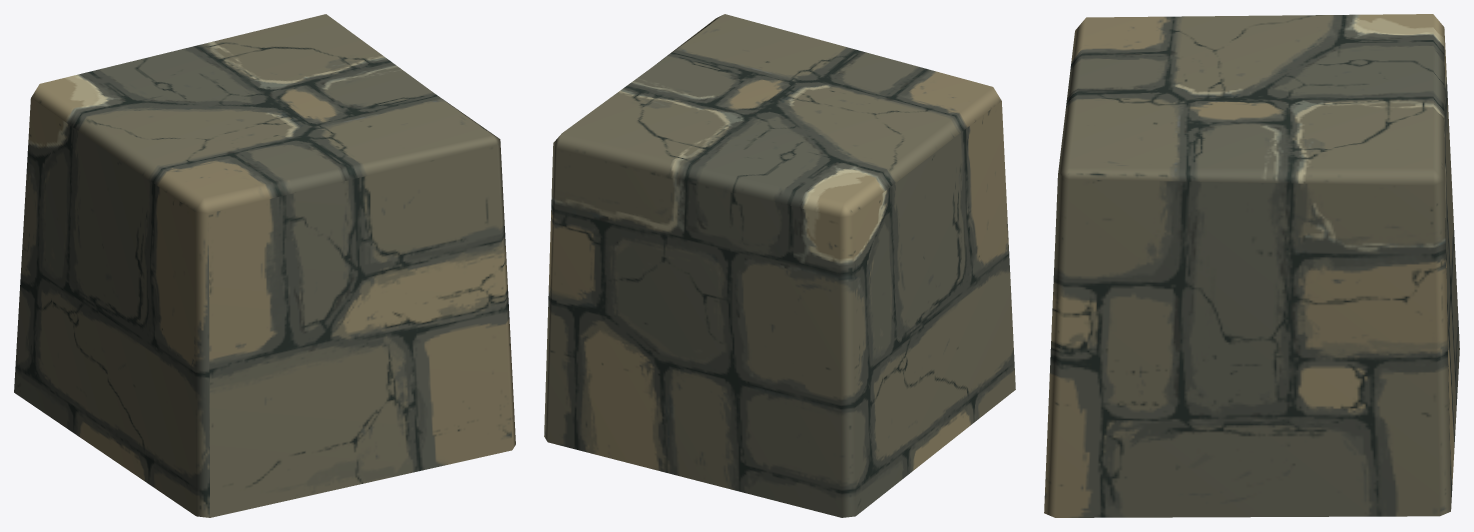
File: platform.fbx
3 views of the same model, side by side, from view 1: azimuth 30°, elevation 25°; view 2: azimuth 150°, elevation 25°; view 3: azimuth 270°, elevation 25° (orthographic). The views are drawn at different scales.
Parts seen in each view (by area): view 1: pPlane7; view 2: pPlane7; view 3: pPlane7.
Boxes of the visible parts, bbox=[...] form: pPlane7: bbox=[14, 14, 515, 517]; pPlane7: bbox=[544, 14, 1015, 517]; pPlane7: bbox=[1044, 14, 1459, 517].
Size of the model in its own units: 2.88 by 2.63 by 2.91.
